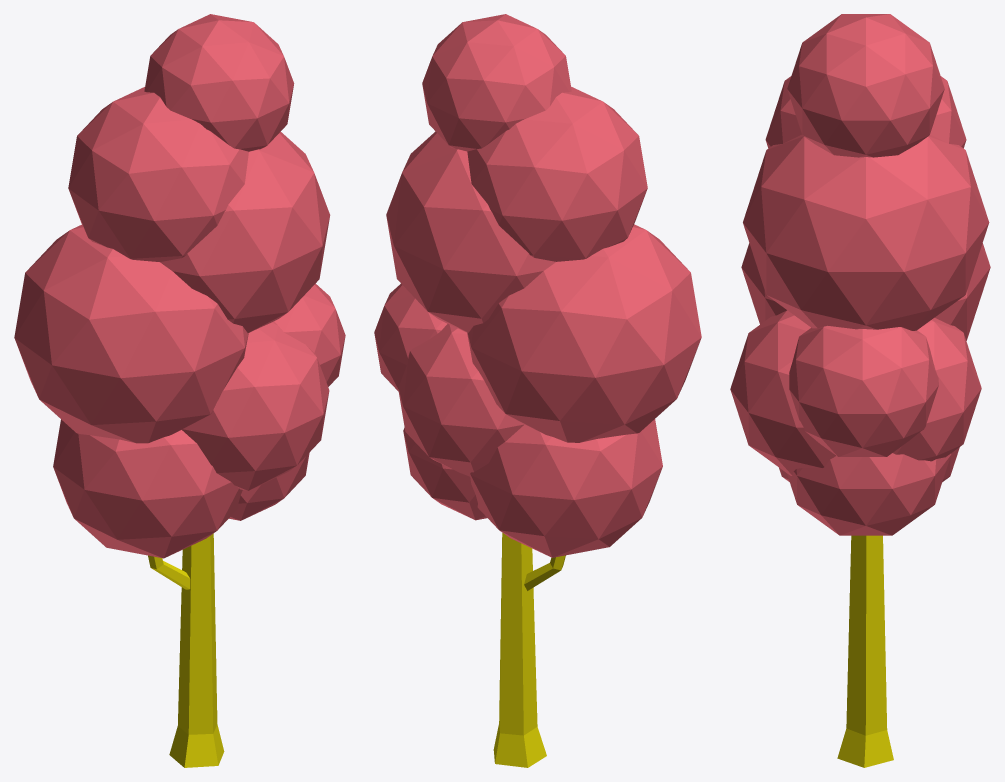
Rendered from tree-oak.fbx.
The picture shows the model from 3 angles, left to right: view 1: azimuth 30°, elevation 25°; view 2: azimuth 150°, elevation 25°; view 3: azimuth 270°, elevation 25°; orthographic projection. The views are drawn at different scales.
Parts seen in each view (by area): view 1: tree-oak; view 2: tree-oak; view 3: tree-oak.
Part boxes in pixels (x1,y1,x2,y2): tree-oak: [14, 14, 345, 767]; tree-oak: [374, 14, 701, 767]; tree-oak: [730, 14, 990, 767].
Bounding box in the file's own units: 3.19 × 7.46 × 2.35.
